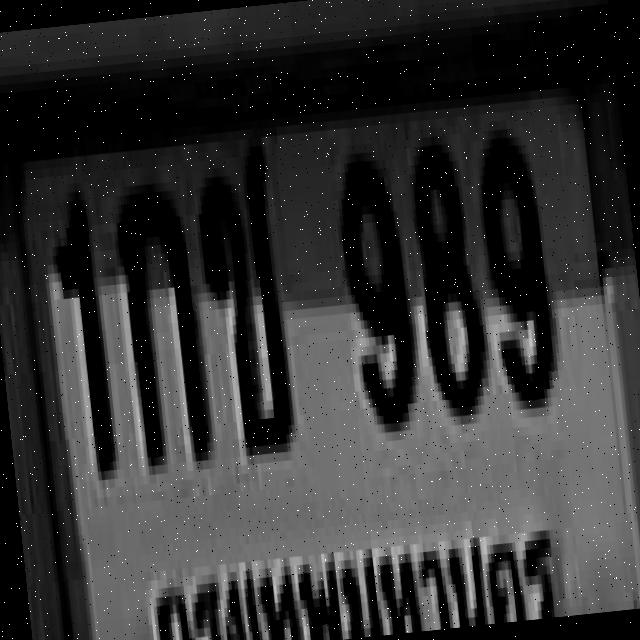1: (46, 186, 112, 469)
10GorGai: (106, 172, 208, 458)
19ChorChang: (188, 136, 293, 450)
8: (405, 133, 484, 410)
9: (329, 141, 418, 426), (470, 118, 558, 402)
